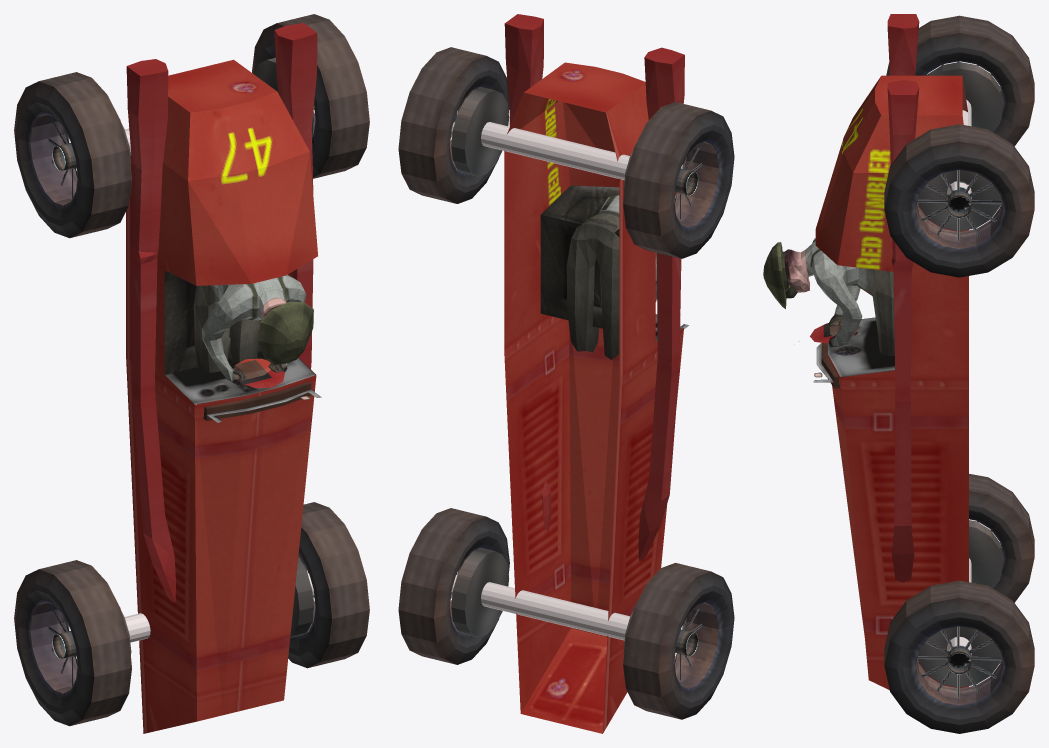
File: RedRumbler_wtf.obj
The picture shows the model from 3 angles, left to right: view 1: azimuth 30°, elevation 25°; view 2: azimuth 150°, elevation 25°; view 3: azimuth 270°, elevation 25°; orthographic projection. The views are drawn at different scales.
Visible parts, largest first — view 1: group2, group5, group3, group7, group4; view 2: group2, group5, group4, group3; view 3: group2, group5, group3, group4.
Part boxes in pixels (x1,y1,x2,y2): group2: (126, 23, 317, 733); group5: (14, 14, 369, 726); group3: (193, 275, 313, 386); group7: (234, 358, 284, 388); group4: (124, 106, 314, 642); group2: (504, 14, 684, 733); group5: (398, 47, 734, 719); group4: (451, 114, 629, 640); group3: (566, 194, 656, 359); group2: (815, 14, 968, 689); group5: (884, 15, 1034, 733); group3: (763, 238, 894, 371); group4: (947, 100, 971, 665).
Size of the model in its own units: 283 by 660 by 248.
